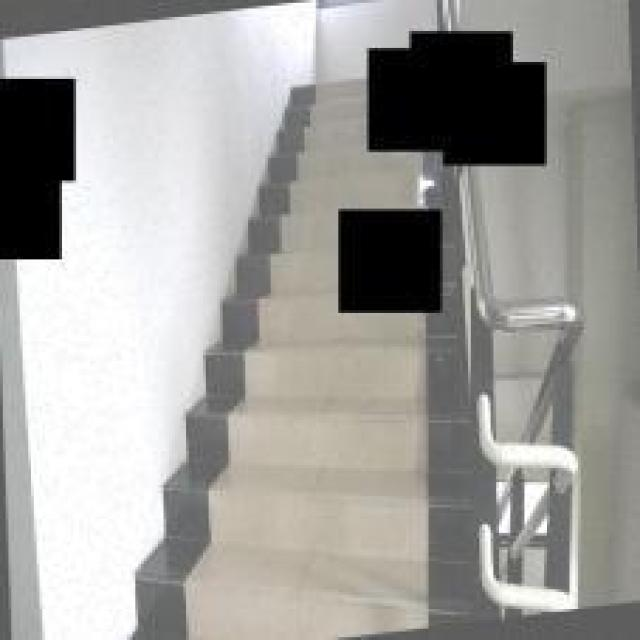upstair: (199, 334, 461, 638)
